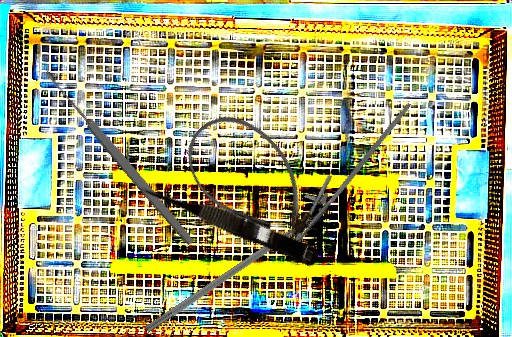Cannula: (170, 97, 332, 265)
Hook Surgical: (144, 212, 320, 336)
Micro Scissor: (133, 172, 325, 269)
Needle Holder: (273, 82, 412, 269)
Surgical Spoon: (42, 67, 197, 248)
